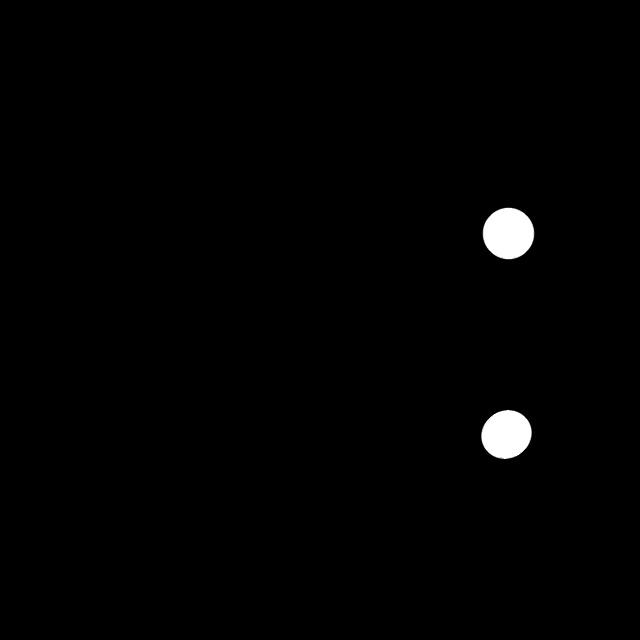Circle: (477, 201, 541, 267), (474, 401, 536, 467)
